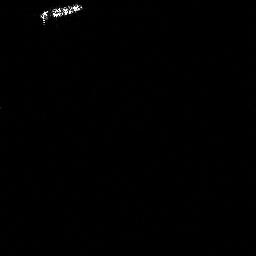ship: (38, 3, 86, 24)
